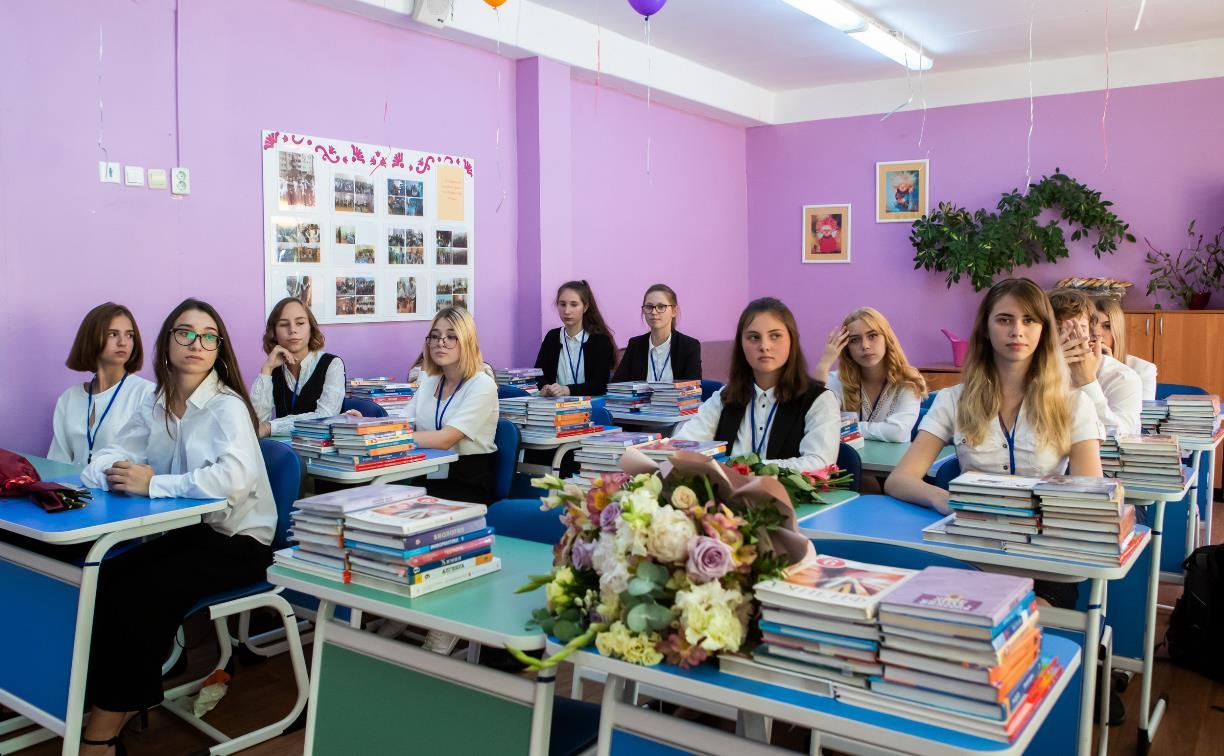students: (83, 300, 280, 751), (884, 277, 1104, 517), (674, 296, 843, 477), (403, 308, 497, 500), (46, 303, 156, 462), (1029, 290, 1140, 439), (813, 307, 924, 440), (248, 296, 345, 425), (529, 280, 619, 397), (612, 282, 703, 383), (1093, 296, 1156, 399)
